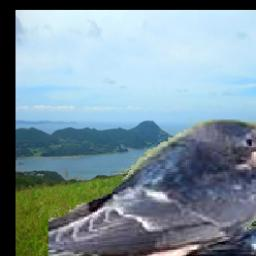Swallow: (50, 118, 256, 256)
